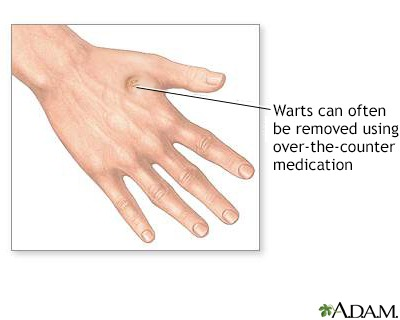Warts: (113, 67, 155, 100)
